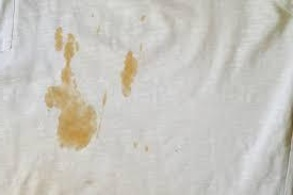coffee: (53, 105, 96, 151), (43, 80, 82, 107), (120, 50, 141, 96), (62, 32, 76, 81), (52, 25, 64, 50)
